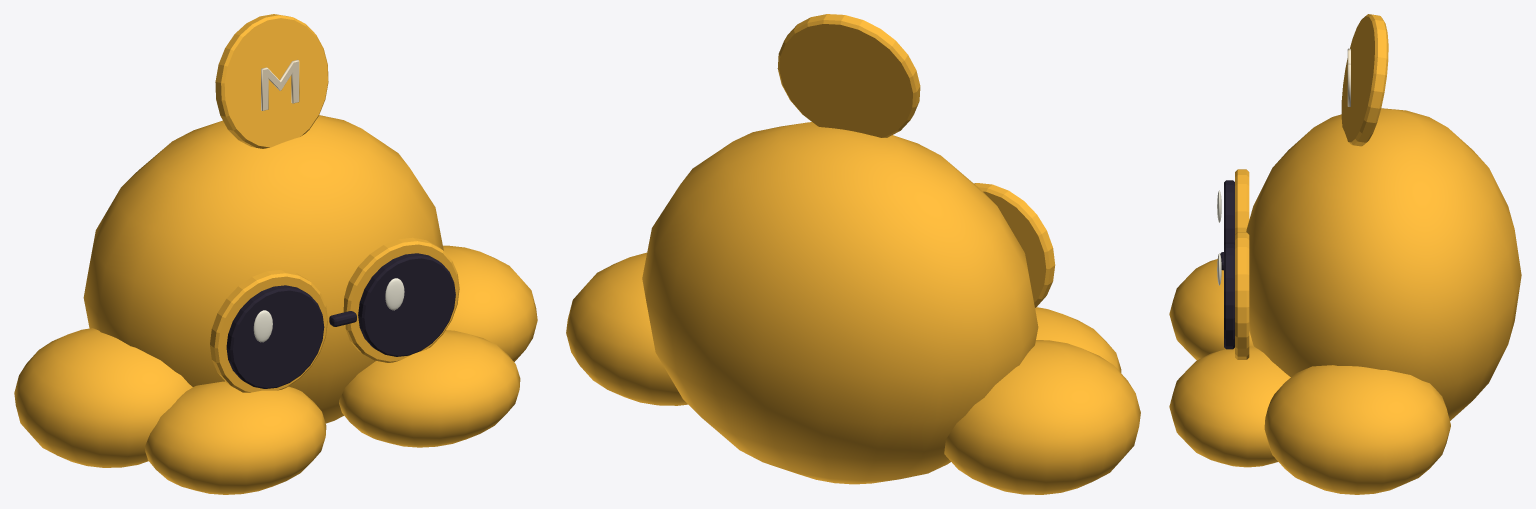
The model's file is gold_sunglasses_mascot.glb.
The picture shows the model from 3 angles, left to right: view 1: azimuth 30°, elevation 25°; view 2: azimuth 150°, elevation 25°; view 3: azimuth 270°, elevation 25°; orthographic projection. The views are drawn at different scales.
Parts seen in each view (by area): view 1: Mascot_BlobBody, Mascot_BlobFoot, Mascot_BlobFoot.002, Mascot_BlobFoot.003, Mascot_TopCoin, Mascot_GlassesBlackLens, Mascot_GlassesBlackLens.001, Mascot_BlobFoot.001, Mascot_GlassesGoldRim, Mascot_GlassesGoldRim.001, Mascot_Coin_M; view 2: Mascot_BlobBody, Mascot_BlobFoot, Mascot_TopCoin, Mascot_BlobFoot.001, Mascot_GlassesGoldRim, Mascot_BlobFoot.002; view 3: Mascot_BlobBody, Mascot_BlobFoot.001, Mascot_BlobFoot.003, Mascot_TopCoin, Mascot_BlobFoot.002, Mascot_GlassesGoldRim.001, Mascot_GlassesBlackLens.001, Mascot_GlassesGoldRim, Mascot_GlassesBlackLens.
Boxes of the visible parts, box(x1,y1,x2,y2) form: Mascot_BlobBody: box(83, 115, 443, 423); Mascot_BlobFoot: box(14, 328, 192, 467); Mascot_BlobFoot.002: box(144, 381, 326, 494); Mascot_BlobFoot.003: box(339, 330, 520, 447); Mascot_TopCoin: box(215, 14, 328, 148); Mascot_GlassesBlackLens: box(226, 285, 324, 388); Mascot_GlassesBlackLens.001: box(358, 253, 455, 356); Mascot_BlobFoot.001: box(443, 245, 537, 362); Mascot_GlassesGoldRim: box(210, 270, 327, 392); Mascot_GlassesGoldRim.001: box(343, 237, 459, 362); Mascot_Coin_M: box(261, 59, 299, 110); Mascot_BlobBody: box(642, 122, 1038, 484); Mascot_BlobFoot: box(944, 340, 1140, 494); Mascot_TopCoin: box(777, 14, 920, 137); Mascot_BlobFoot.001: box(566, 252, 687, 405); Mascot_GlassesGoldRim: box(974, 183, 1055, 307); Mascot_BlobFoot.002: box(1035, 307, 1121, 372); Mascot_BlobBody: box(1246, 108, 1521, 420); Mascot_BlobFoot.001: box(1264, 365, 1450, 494); Mascot_BlobFoot.003: box(1169, 346, 1290, 467); Mascot_TopCoin: box(1341, 14, 1388, 146); Mascot_BlobFoot.002: box(1169, 259, 1253, 360); Mascot_GlassesGoldRim.001: box(1235, 232, 1249, 359); Mascot_GlassesBlackLens.001: box(1224, 243, 1234, 349); Mascot_GlassesGoldRim: box(1235, 169, 1249, 234); Mascot_GlassesBlackLens: box(1224, 180, 1234, 244).
Size of the model in its own units: 0.72 by 0.5692 by 0.45.
